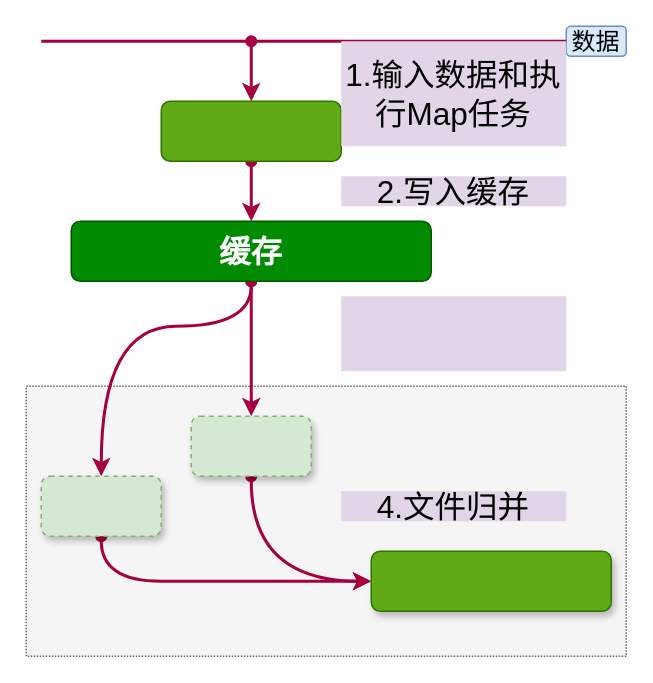
This 653x683 diagram has some shape labels left out. Here are the shapes that lost their labels. From the top down, the centre of each, then its label:
[250,130]: Map任务
[453,333]: 3.溢写(分区,排序,合并)
